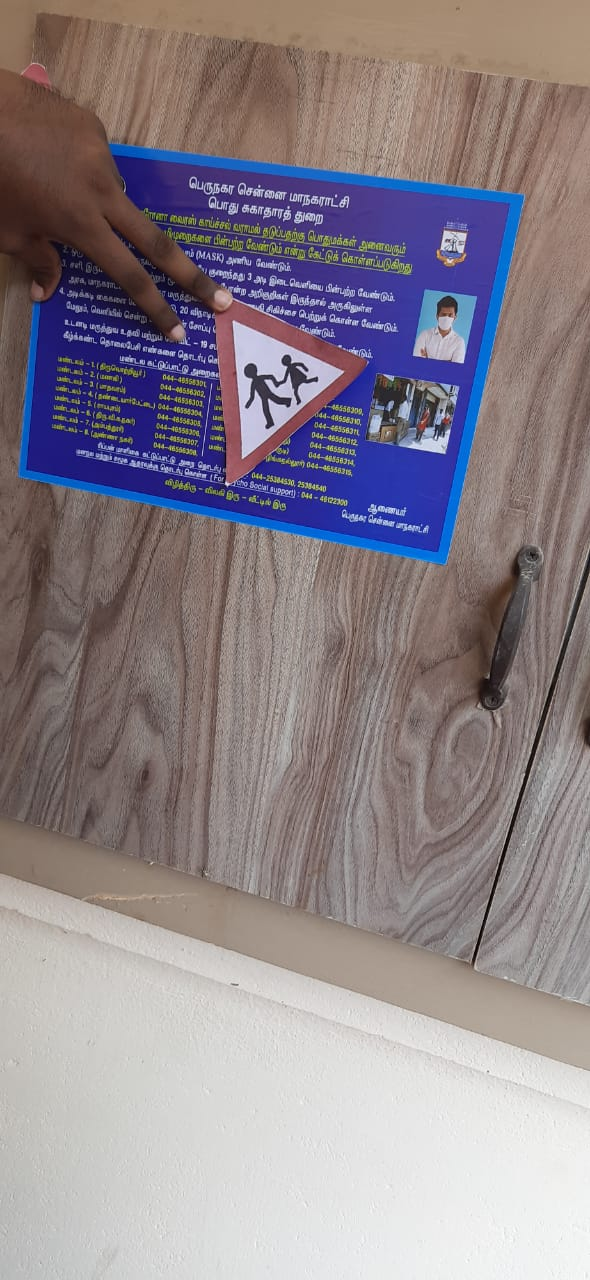SCHOOL ZONE: (176, 249, 402, 484)
